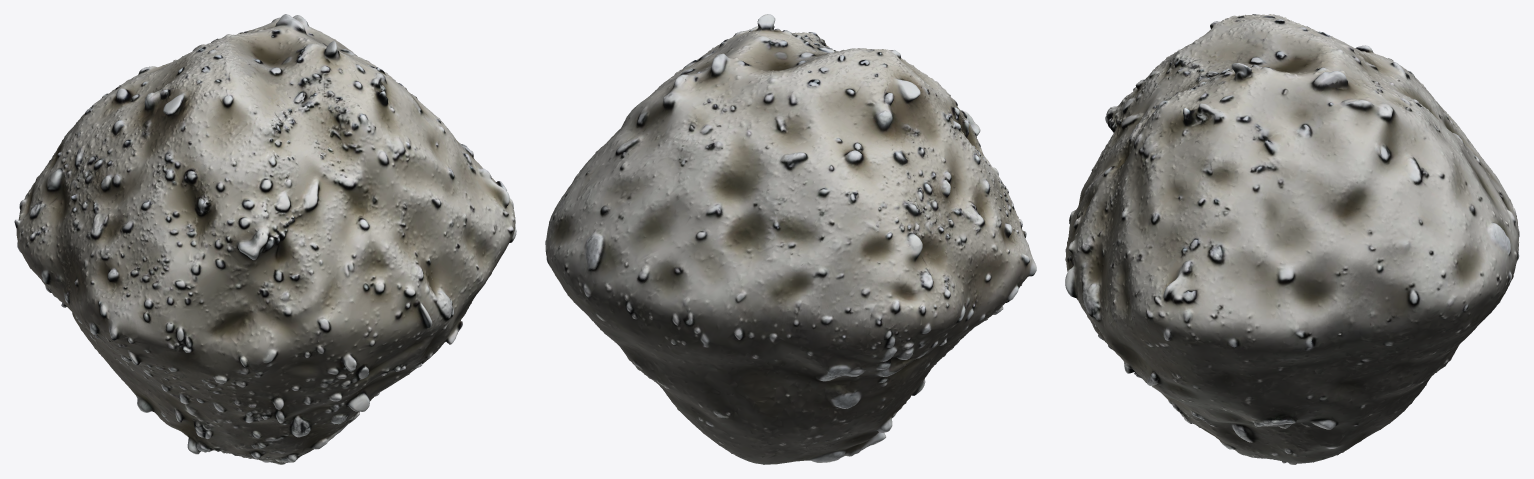
The model's file is ryugu.glb.
The picture shows the model from 3 angles, left to right: view 1: azimuth 30°, elevation 25°; view 2: azimuth 150°, elevation 25°; view 3: azimuth 270°, elevation 25°; orthographic projection.
Size of the model in its own units: 1.9 by 1.83 by 1.83.
Materials: 1 (1 with a texture image).
